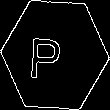P_N: (37, 29, 73, 81)
